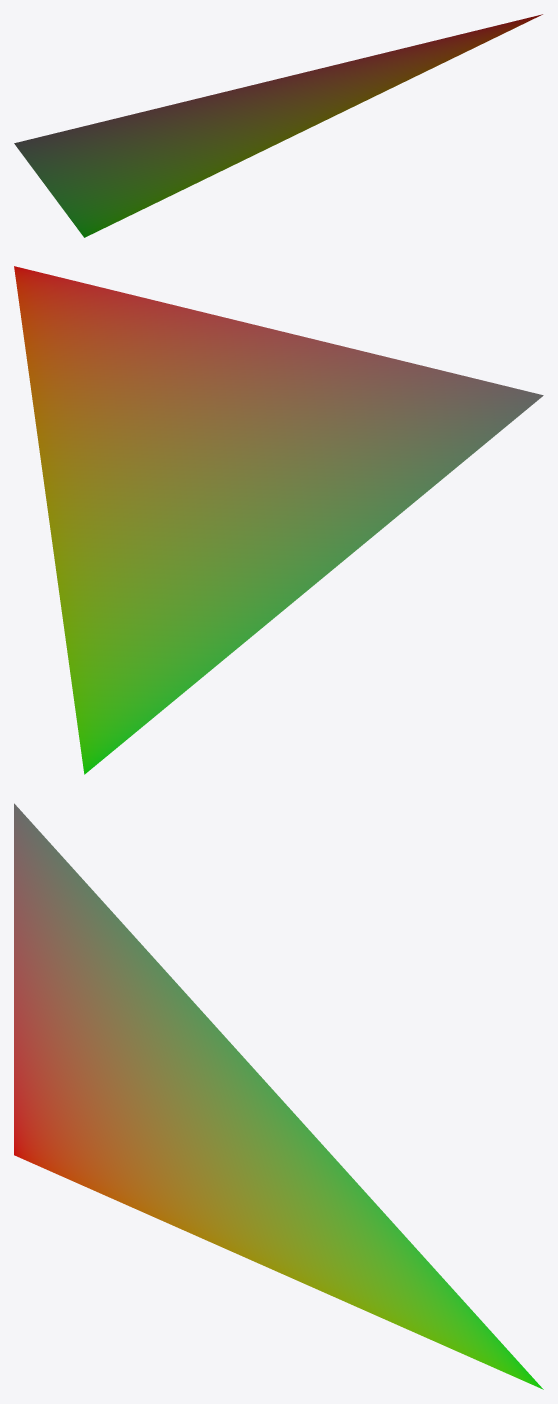
File: start_border_patch_12.obj
3 views of the same model, one above another, from view 1: azimuth 30°, elevation 25°; view 2: azimuth 150°, elevation 25°; view 3: azimuth 270°, elevation 25° (orthographic). The views are drawn at different scales.
Size of the model in its own units: 0.9191 by 0.5 by 0.5846.
